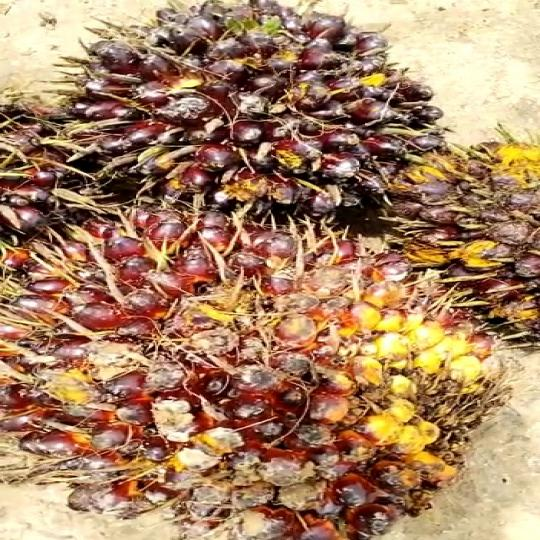kurang masak: (0, 226, 503, 540), (65, 0, 418, 223)
